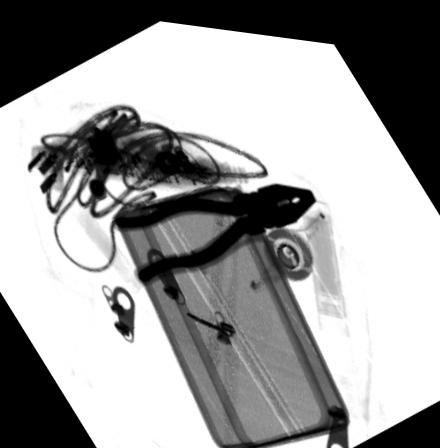Pliers: (113, 174, 316, 284)
